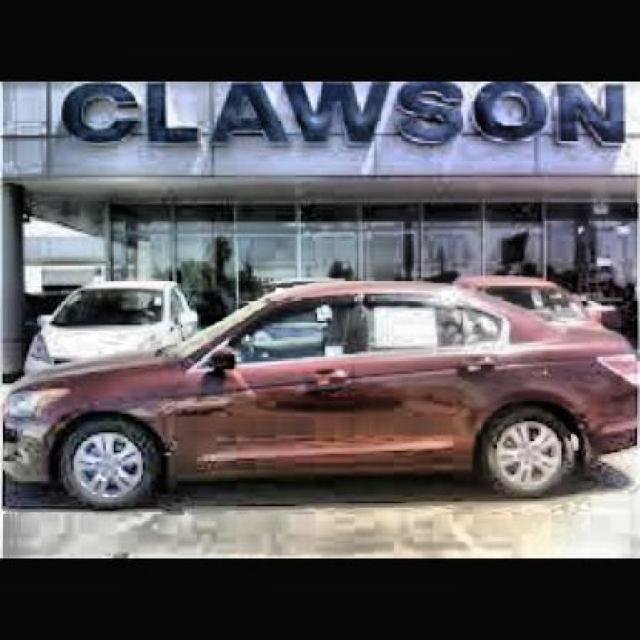maroon: (0, 285, 640, 489)
